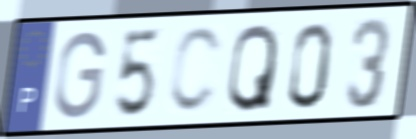0: (286, 18, 337, 112)
3: (344, 13, 393, 112)
5: (111, 26, 167, 120)
C: (166, 23, 225, 117)
G: (51, 29, 109, 122)
Q: (225, 20, 281, 116)
